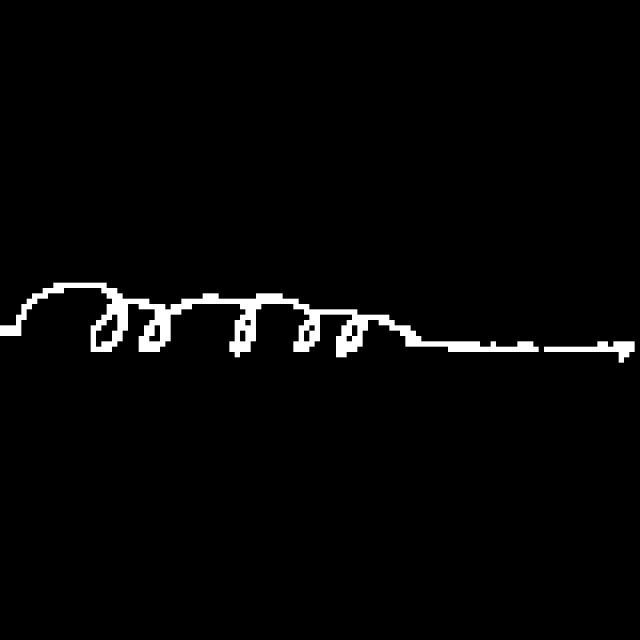inductor: (7, 261, 413, 401)
